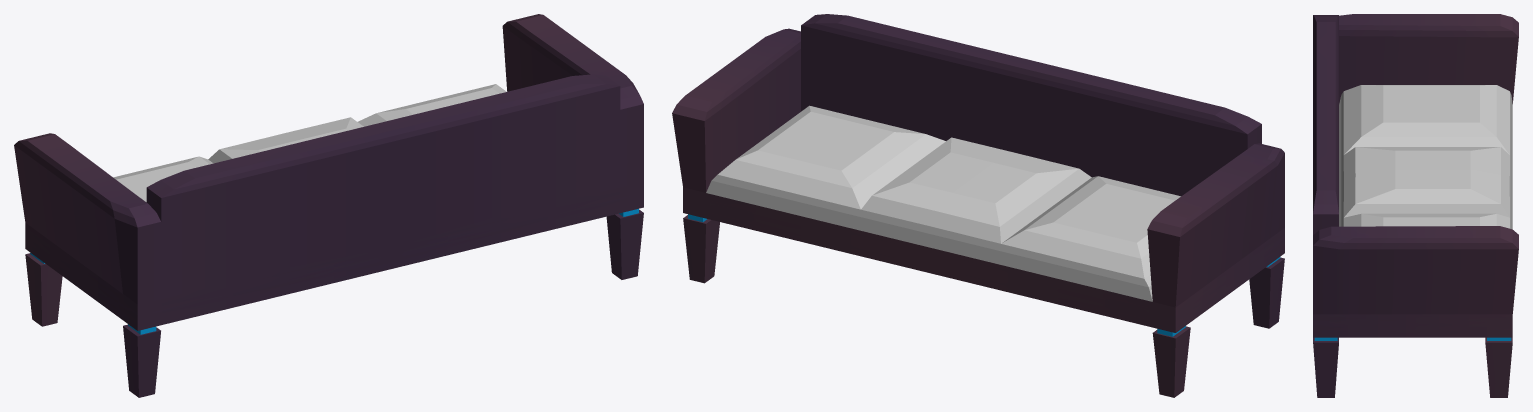
Rendered from Prop_Sofa_Modern.fbx.
The picture shows the model from 3 angles, left to right: view 1: azimuth 30°, elevation 25°; view 2: azimuth 150°, elevation 25°; view 3: azimuth 270°, elevation 25°; orthographic projection. The views are drawn at different scales.
Parts seen in each view (by area): view 1: Cube.002; view 2: Cube.002; view 3: Cube.002.
Part boxes in pixels (x1,y1,x2,y2): Cube.002: [14, 14, 643, 397]; Cube.002: [672, 14, 1284, 397]; Cube.002: [1313, 14, 1518, 397].
Size of the model in its own units: 143 by 53.94 by 54.84.
